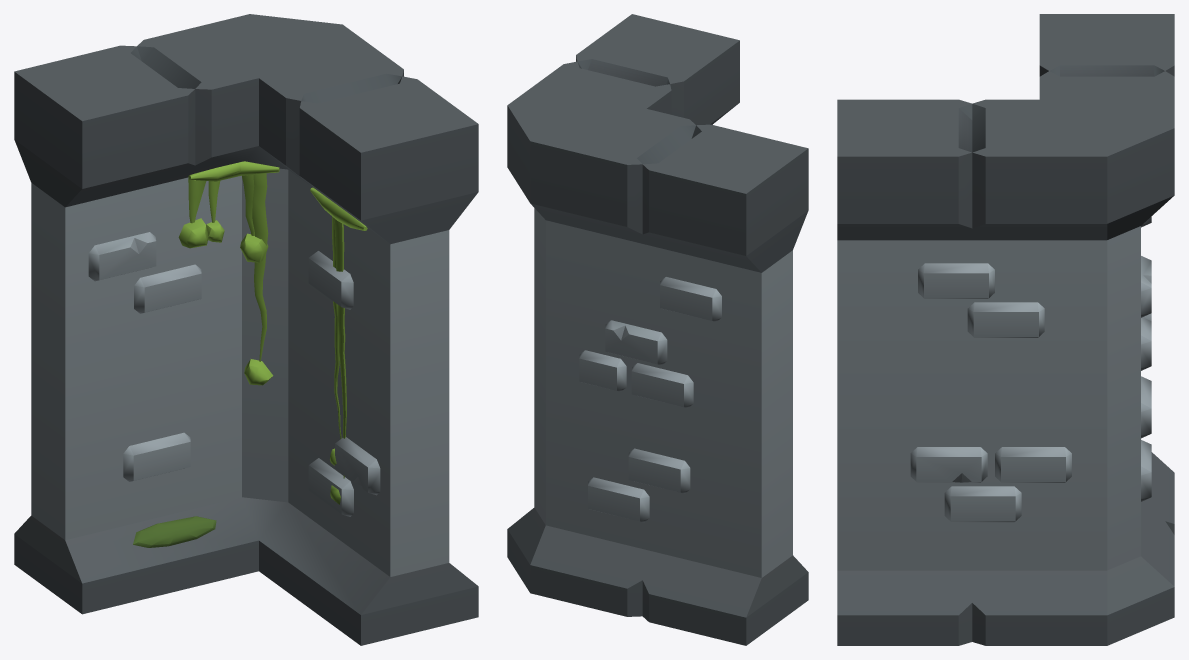
The model's file is wall_slimy_corner_B.glb.
3 renders of one model, left to right at view 1: azimuth 30°, elevation 25°; view 2: azimuth 150°, elevation 25°; view 3: azimuth 270°, elevation 25°, orthographic. The views are drawn at different scales.
Parts seen in each view (by area): view 1: Item; view 2: Item; view 3: Item.
Part boxes in pixels (<box>): Item: <box>14,14,478,645</box>; Item: <box>507,14,808,645</box>; Item: <box>837,14,1174,645</box>.
Size of the model in its own units: 2.5 by 4 by 2.5.
Materials: 3 (3 with a texture image).
